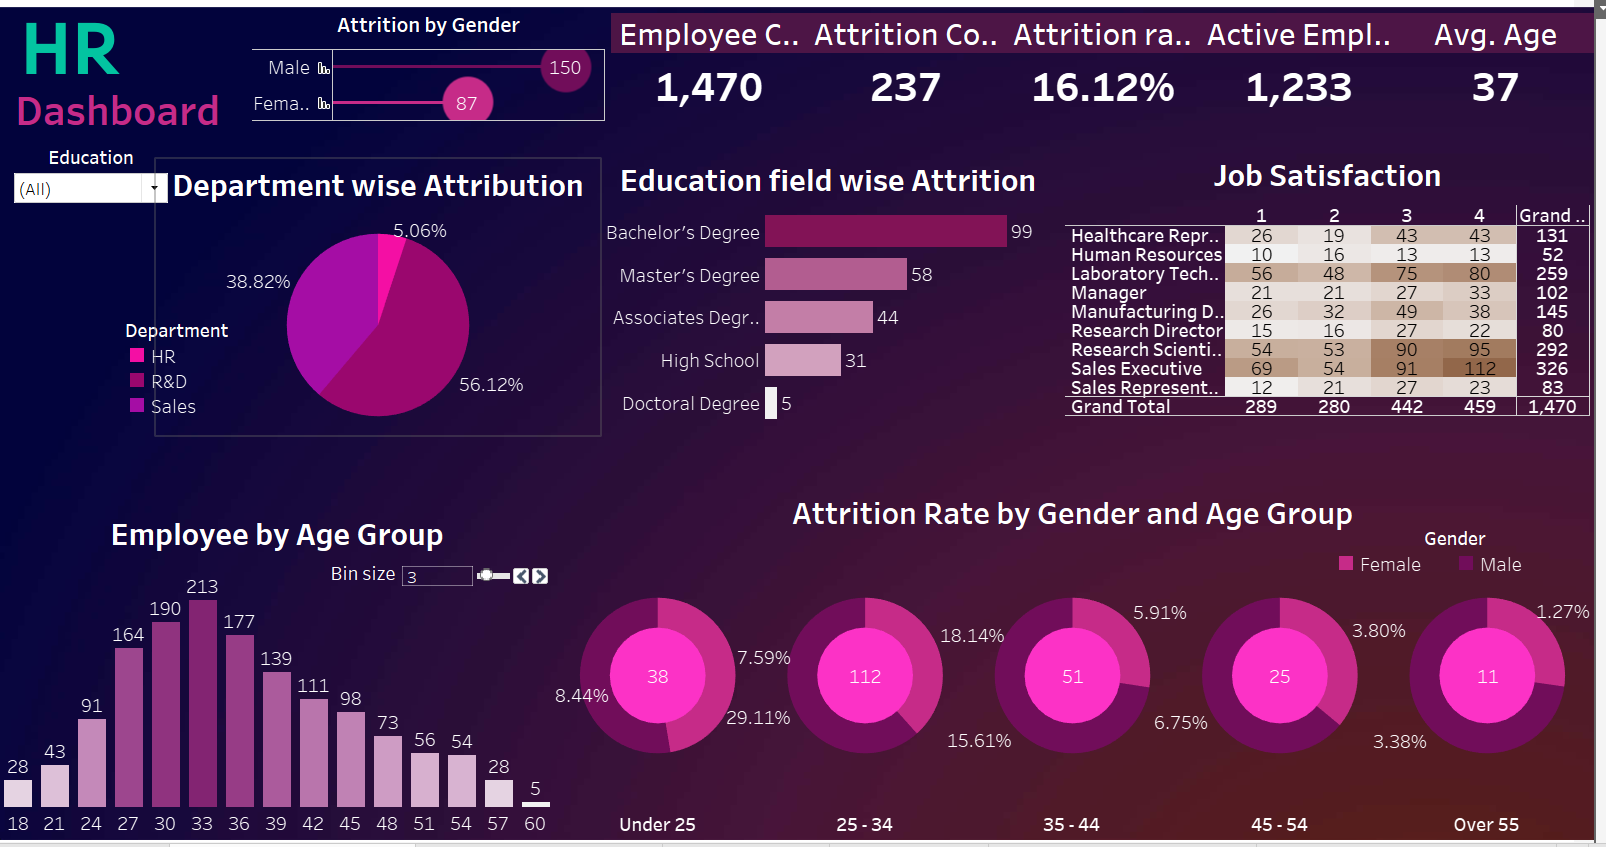

This screenshot's page, from the dashboard's own definition file:
{"tool":"tableau","page":{"name":"HR Analytics Dashboard","canvas":[1580,866],"ordinal":0},"visuals":[{"type":"worksheet","title":"Attrition by Gender","mark":"Automatic","rows":["Gender"],"cols":["Calculation_1450722034720907264","Calculation_1450722034720907264"],"box":[258,30,353,115]},{"type":"filter","title":"Education field wise Attrition","param":"[federated.0redypl09ipj4y1eohmsf0ovauxa].[none:Education:nk]","box":[17,168,160,93]},{"type":"worksheet","title":"Education field wise Attrition","mark":"Automatic","rows":["Education"],"cols":["Calculation_1450722034720907264"],"box":[611,178,446,270]},{"type":"worksheet","title":"Departmwnt wise Attrition","mark":"Pie","box":[162,183,444,276]},{"type":"legend","title":"Departmwnt wise Attrition","param":"[federated.0redypl09ipj4y1eohmsf0ovauxa].[none:Department:nk]","box":[131,341,122,110]},{"type":"worksheet","title":"Employee by Age","mark":"Bar","rows":["Employee Count"],"cols":["Age (bin)"],"box":[6,532,554,328]},{"type":"legend","title":"Attrition Rate by Gender and Age Group","param":"[federated.0redypl09ipj4y1eohmsf0ovauxa].[none:Gender:nk]","box":[1340,549,242,60]},{"type":"parameter","param":"[Parameters].[Parameter 1]","box":[333,587,224,47]}]}

Visuals, with their boxes on the page's 1580x866 design canvas (x1, y1, x2, y2). These are canvas units, not pixel positions in the 1606x847 screenshot, which may show the page scaled, cropped or inside an application window:
"Attrition by Gender" worksheet: crop(258, 30, 611, 145)
"Education field wise Attrition" filter: crop(17, 168, 177, 261)
"Education field wise Attrition" worksheet: crop(611, 178, 1057, 448)
"Departmwnt wise Attrition" worksheet (Pie marks): crop(162, 183, 606, 459)
"Departmwnt wise Attrition" legend: crop(131, 341, 253, 451)
"Employee by Age" worksheet (Bar marks): crop(6, 532, 560, 860)
"Attrition Rate by Gender and Age Group" legend: crop(1340, 549, 1582, 609)
parameter: crop(333, 587, 557, 634)
